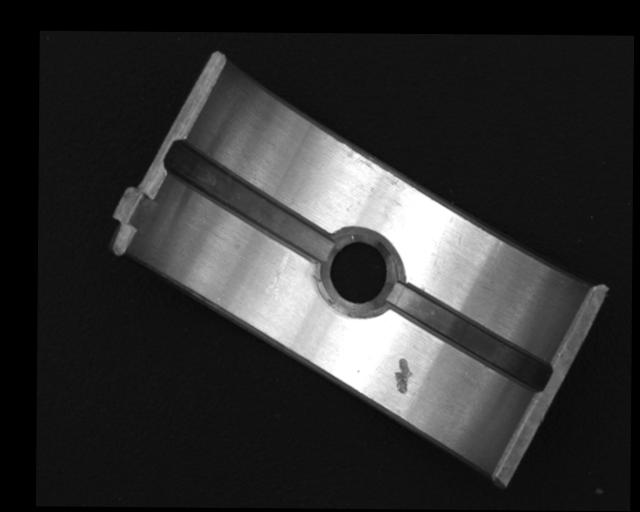bruise: (393, 356, 416, 396)
gap: (166, 138, 330, 263), (386, 284, 552, 393)
hole: (321, 232, 393, 317)
nick: (266, 250, 290, 301)
